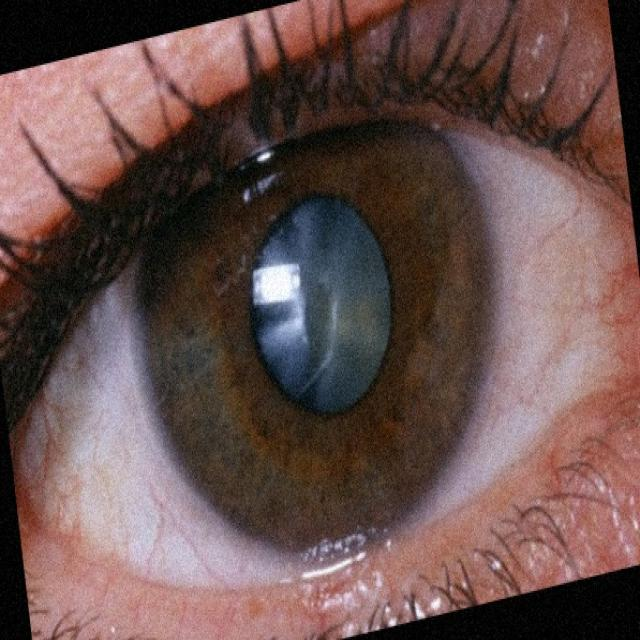Cataract: (48, 44, 555, 602)
